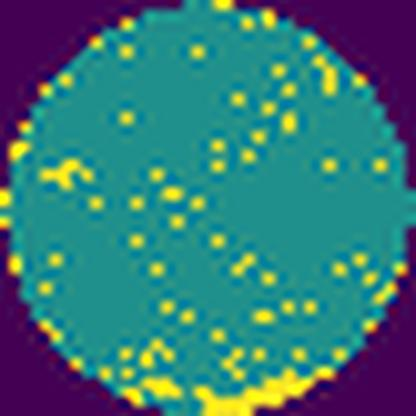Edge-Loc: (188, 359, 339, 416)
